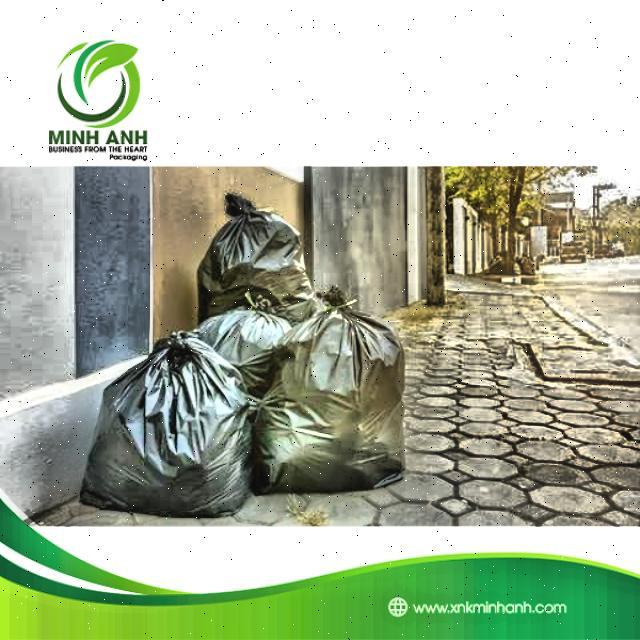Trashbag: (71, 332, 259, 519), (252, 309, 418, 502), (191, 192, 310, 304)
